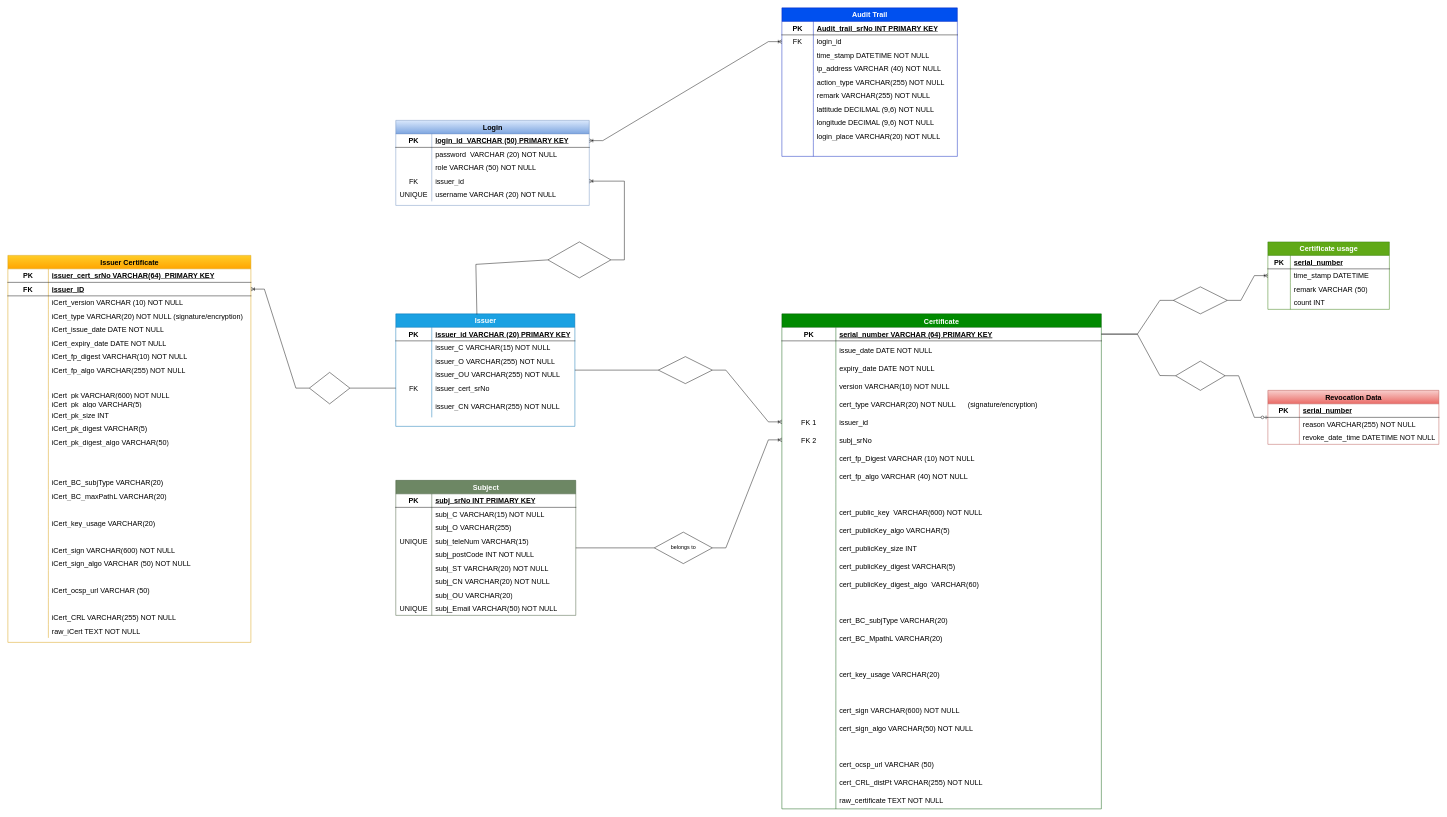
The diagram is 1447 pixels wide and 817 high, and some of its shapes have lost their labels. The centre of each missing label's shape, as x and y in pixels:
has: point 329,388
if revoked: point 1200,375
is used: point 1200,300
issued by: point 685,370
issuer employees can: point 579,259
